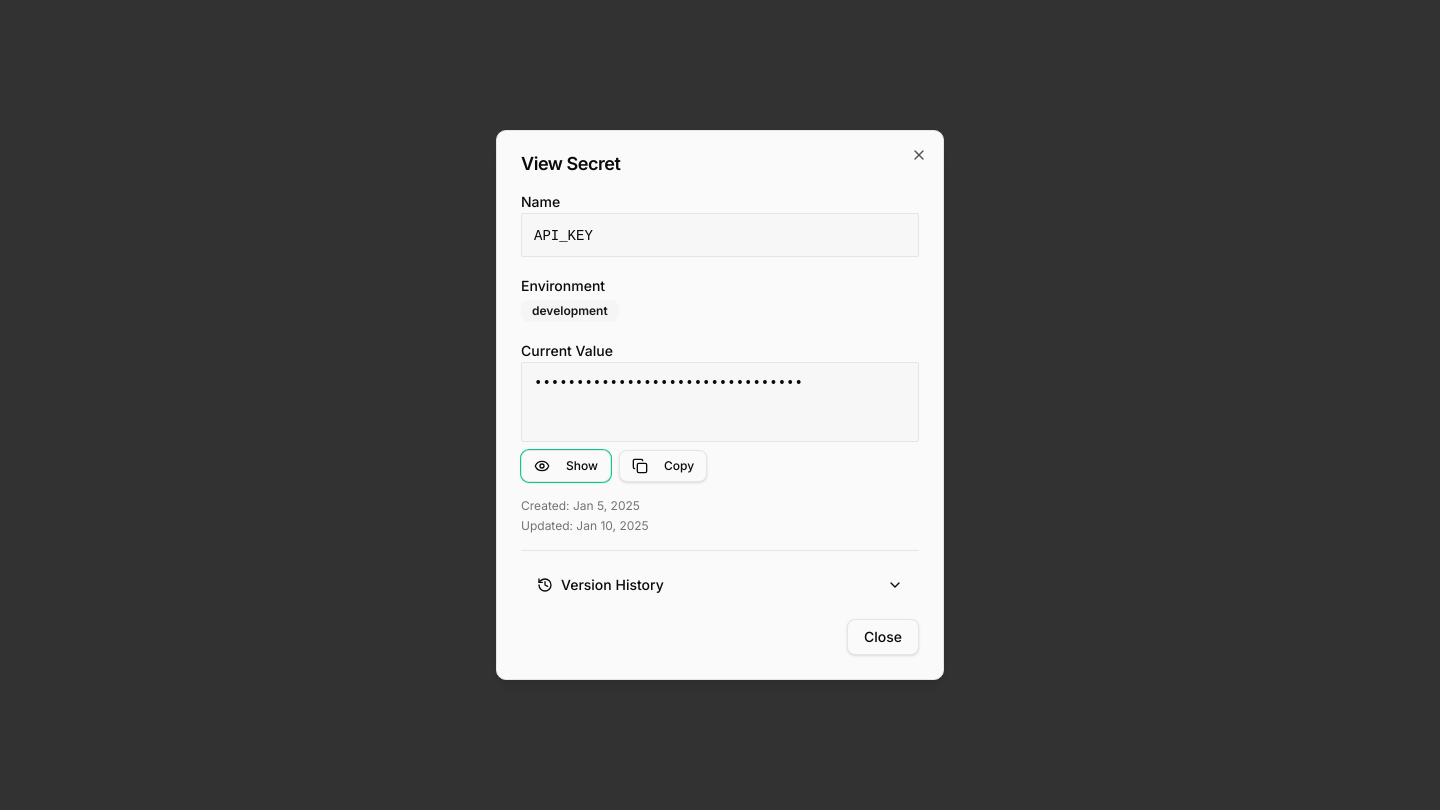
Scenario: ViewSecretModal › reveal functionality › should fetch and show value when Show button clicked
This screenshot has width=1440, height=810.
Click the button "Show".
click(566, 466)  # box top-left (521, 450), bottom-right (611, 482)
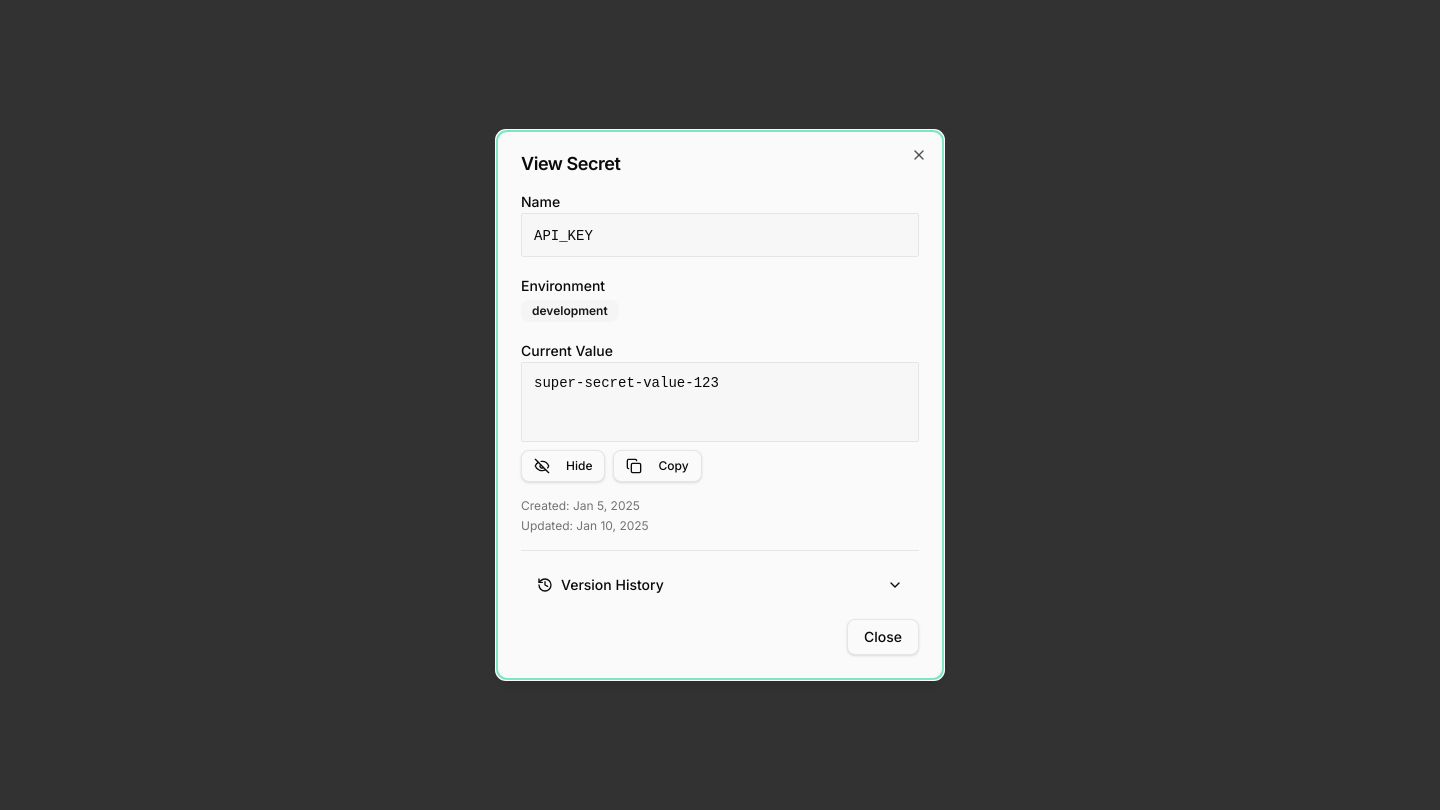
Expected: the text "super-secret-value-123" is shown, top-left (534, 375), bottom-right (719, 391)
